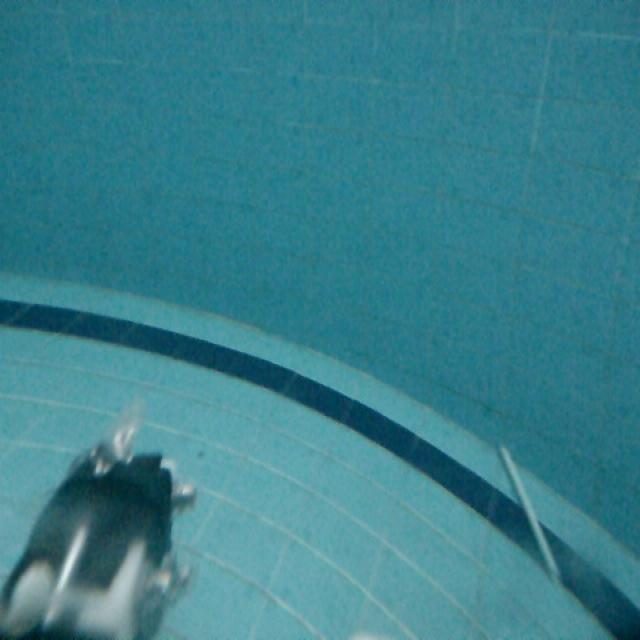Cube: (491, 439, 568, 586)
